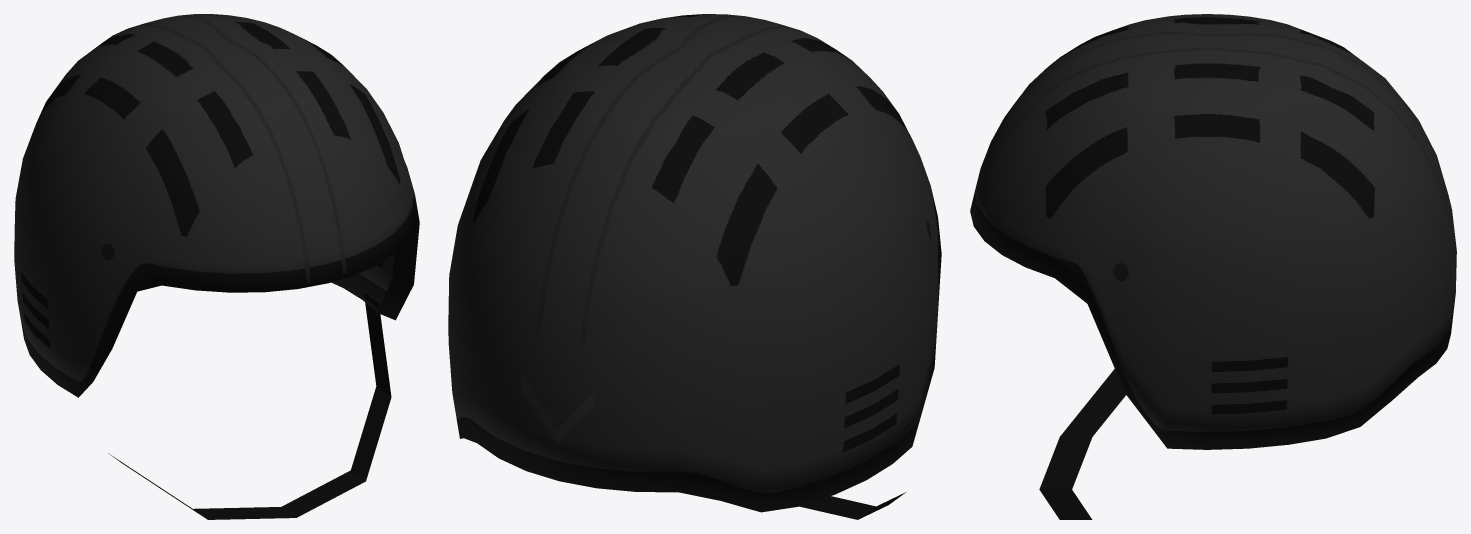
The model's file is casque-arbitre.glb.
3 renders of one model, left to right at view 1: azimuth 30°, elevation 25°; view 2: azimuth 150°, elevation 25°; view 3: azimuth 270°, elevation 25°, orthographic. The views are drawn at different scales.
Parts seen in each view (by area): view 1: Casque_Arbitre; view 2: Casque_Arbitre; view 3: Casque_Arbitre.
Part boxes in pixels (left/top/right/bottom): Casque_Arbitre: left=14, top=14, right=419, bottom=519; Casque_Arbitre: left=448, top=14, right=941, bottom=519; Casque_Arbitre: left=970, top=14, right=1456, bottom=519.
Size of the model in its own units: 0.2057 by 0.242 by 0.2378.
1 material, 1 textured.
